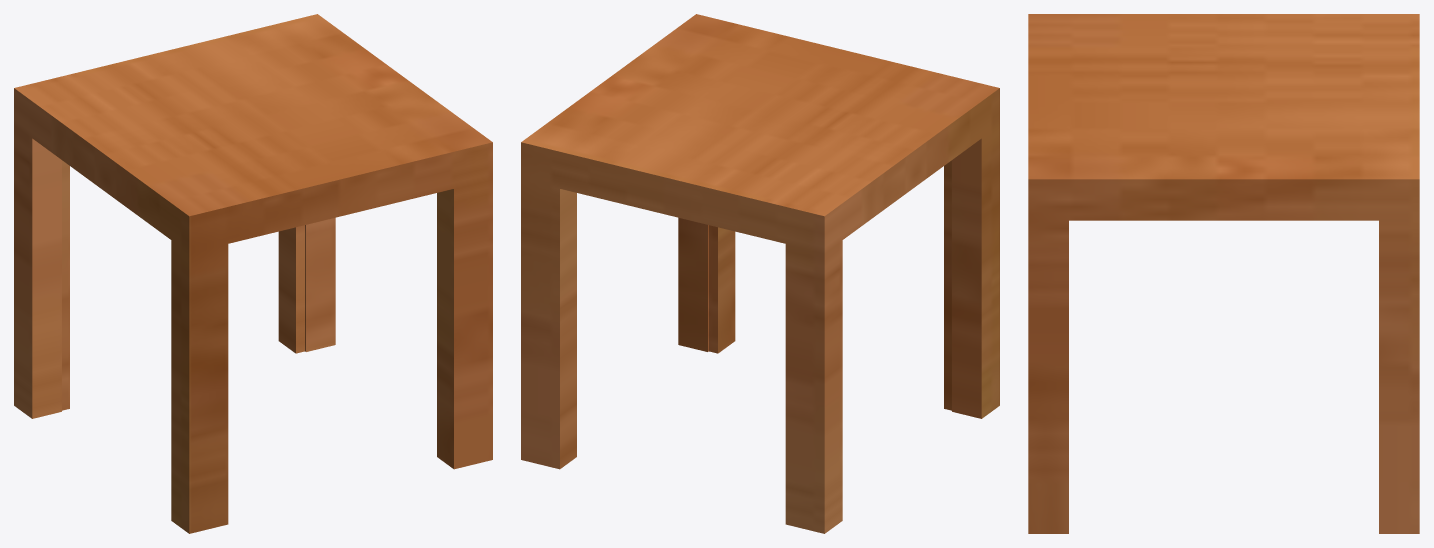
Rendered from table.fbx.
3 views of the same model, side by side, from view 1: azimuth 30°, elevation 25°; view 2: azimuth 150°, elevation 25°; view 3: azimuth 270°, elevation 25° (orthographic). The views are drawn at different scales.
Parts seen in each view (by area): view 1: Cube; view 2: Cube; view 3: Cube.
Boxes of the visible parts, x1,y1,x2,y2 form: Cube: (14,14,492,533); Cube: (521,14,999,533); Cube: (1028,14,1419,533).
Bounding box in the file's own units: 200 × 200 × 200.
